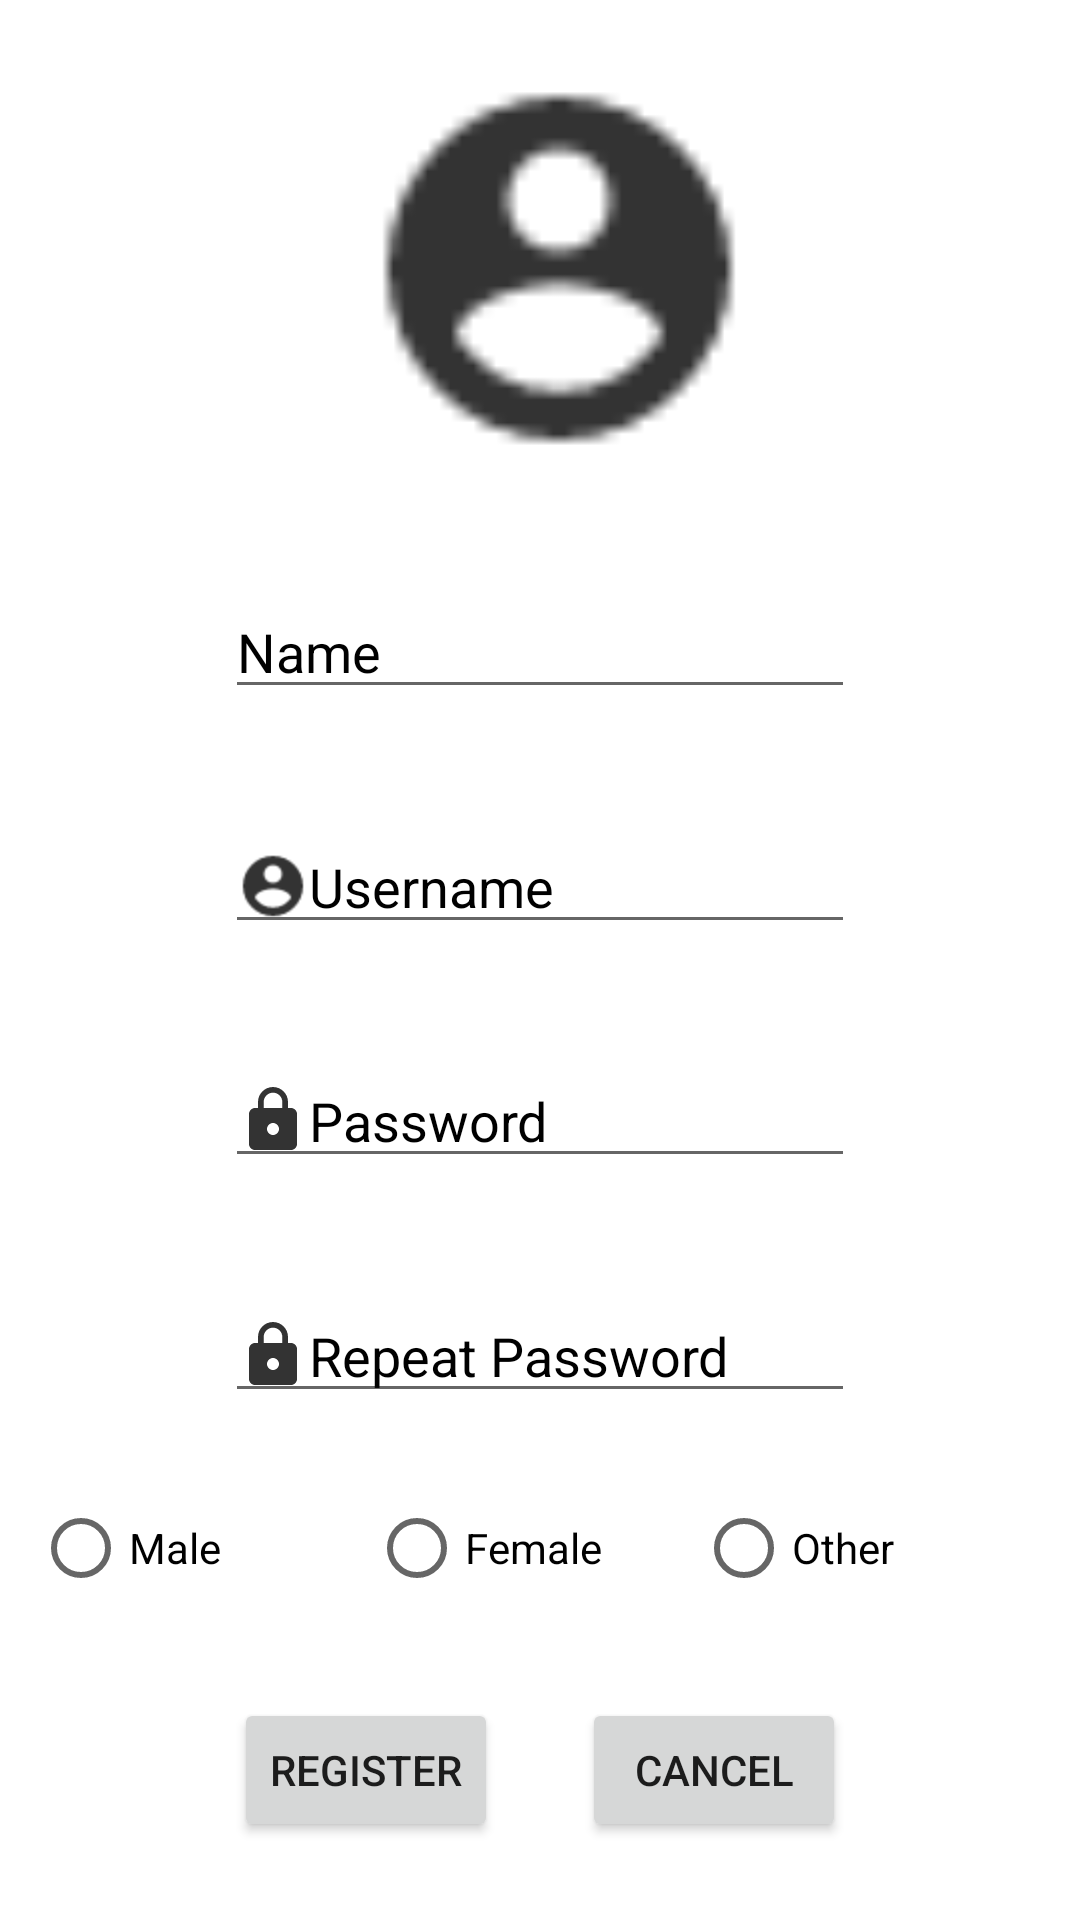

Icons on this 1080px x 1920px Android screen, each with the point to tap as (x=x, y=y):
user: (x=559, y=268)
